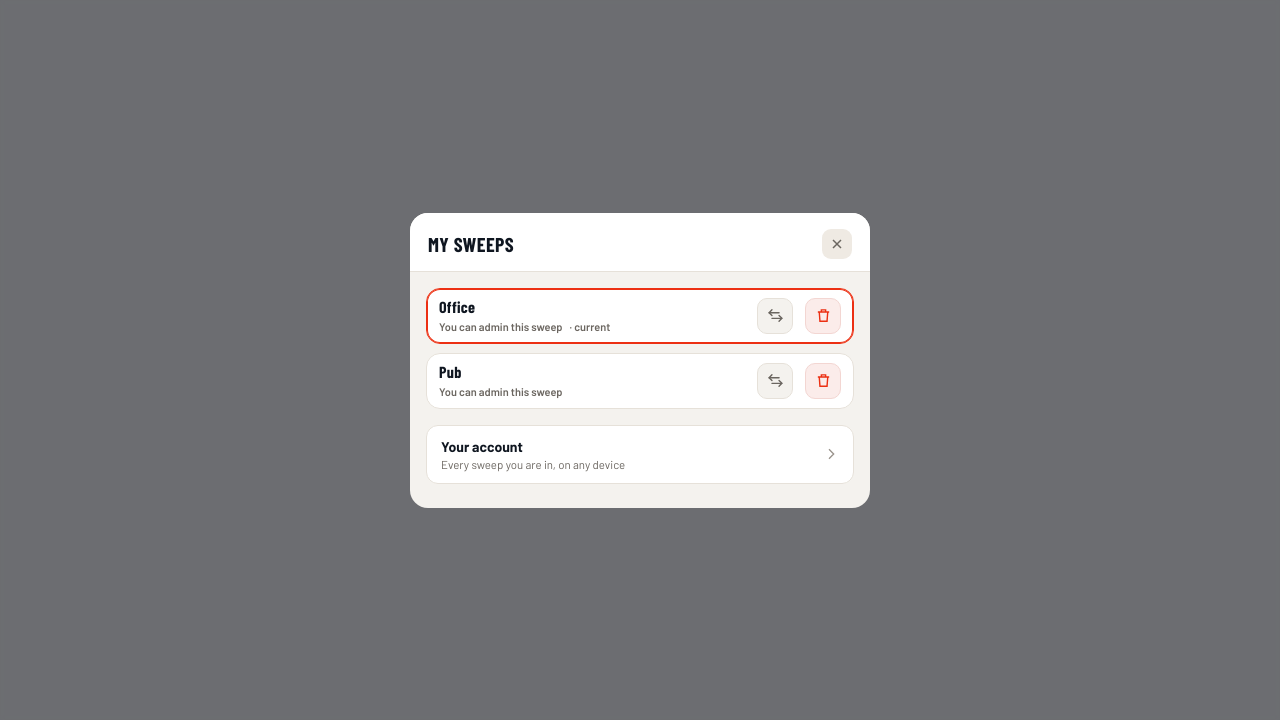
Test case: SweepsSheet: a rejected token is forgotten and the sheet says what to do
The width and height of the screenshot is (1280, 720).
Click the text "Pub" at (450, 371), box x1=439 y1=362 x2=462 y2=381
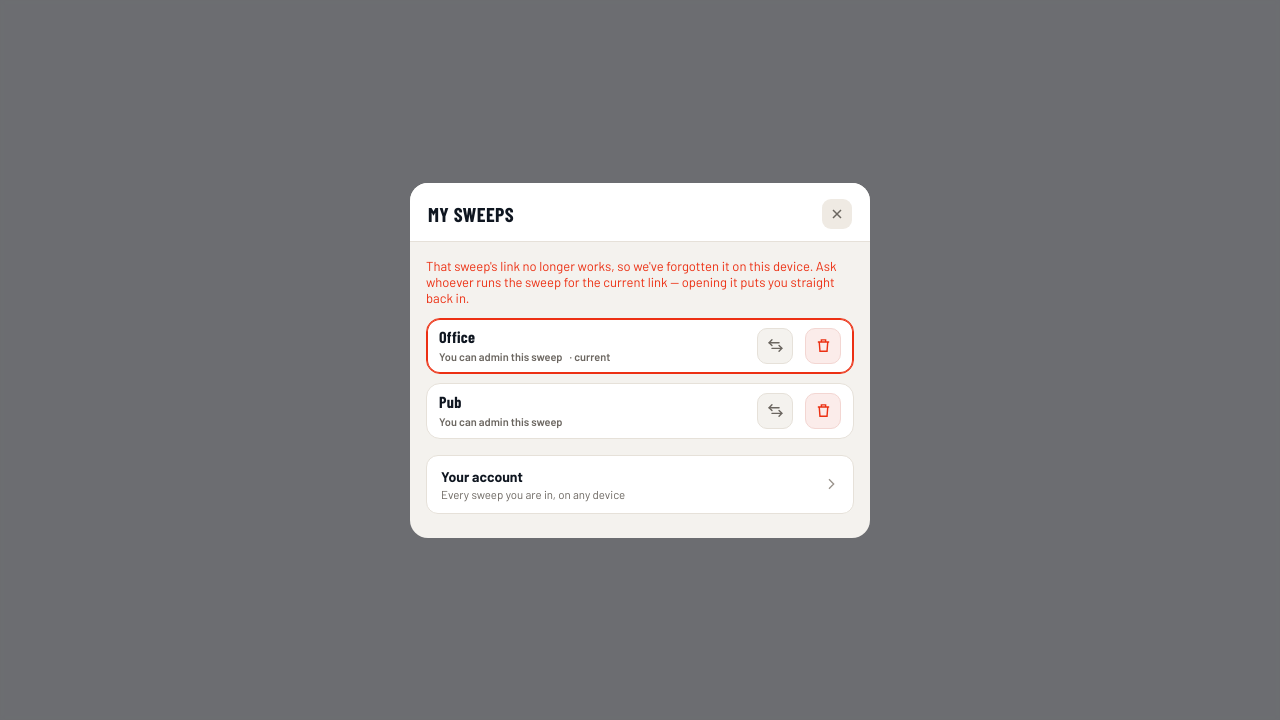
Check: the message shows "ask whoever runs the sweep for the current link", box x1=426 y1=258 x2=836 y2=306
